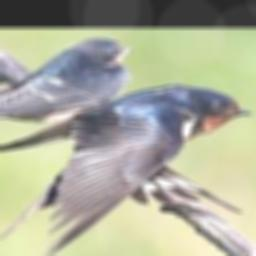Swallow: (0, 85, 253, 256), (0, 37, 131, 116)
